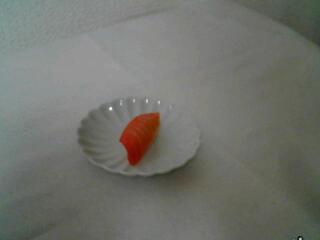002_classes: (118, 112, 166, 166)
